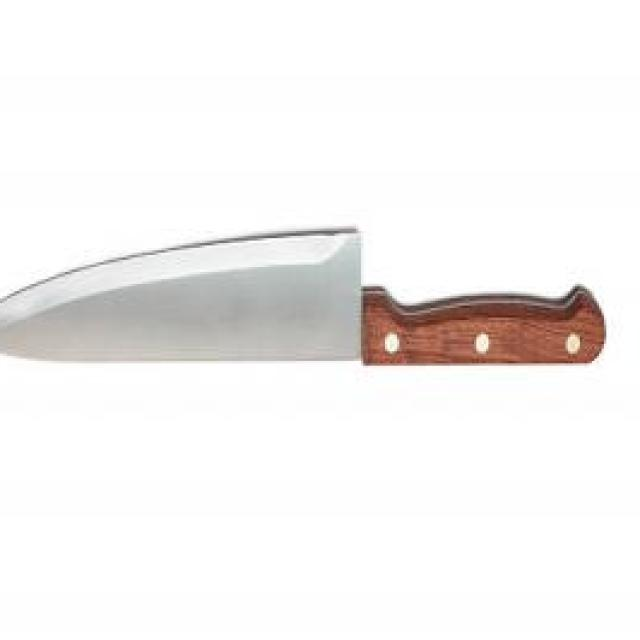knife: (0, 226, 623, 380)
